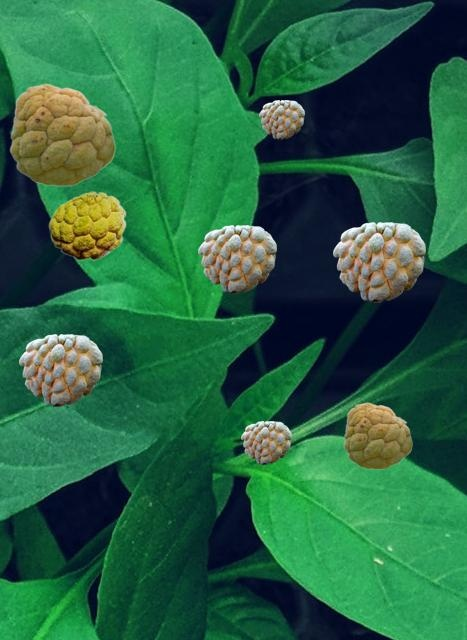atis: (9, 83, 114, 185), (333, 222, 424, 301), (19, 334, 101, 405), (48, 191, 125, 259), (198, 225, 275, 292), (343, 402, 411, 468), (241, 421, 290, 463), (259, 100, 303, 138)
